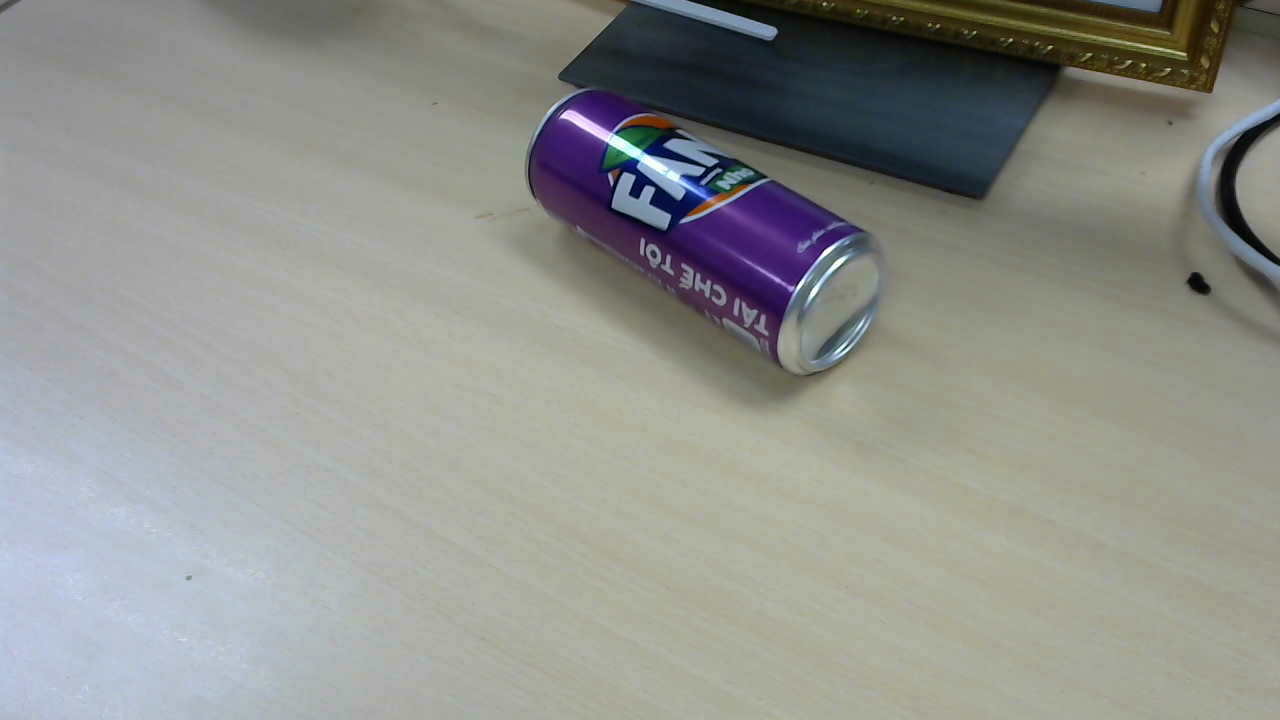Fanta: (529, 90, 890, 381)
